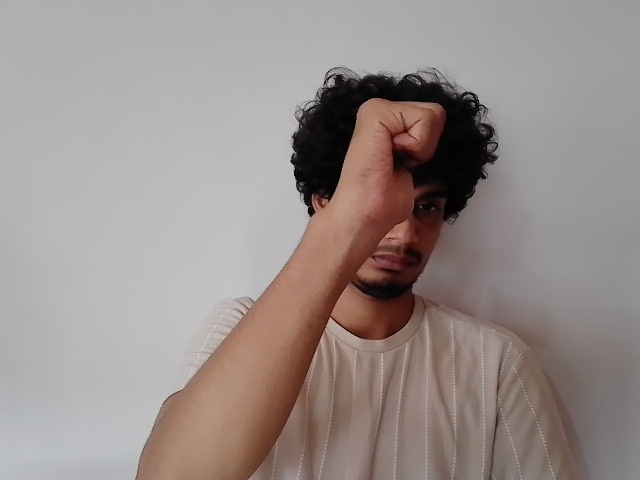how: (342, 99, 444, 225)
